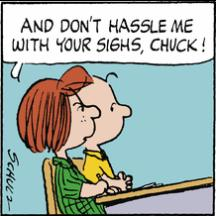charlie: (77, 68, 135, 194)
